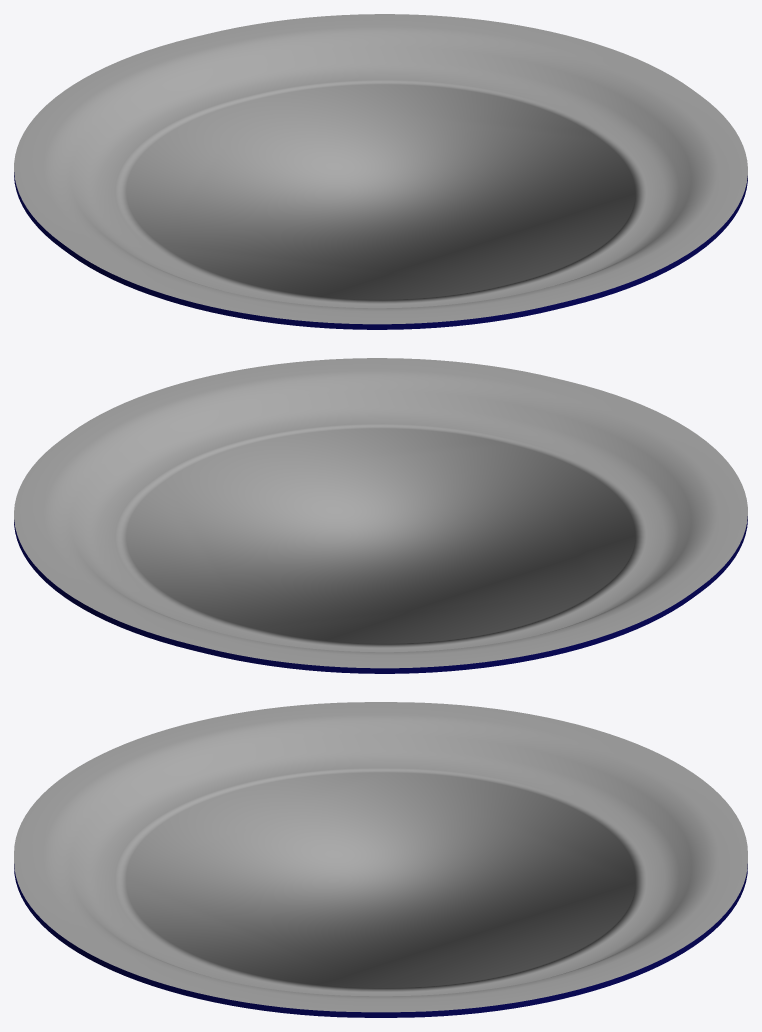
File: Teller.dae
3 views of the same model, one above another, from view 1: azimuth 30°, elevation 25°; view 2: azimuth 150°, elevation 25°; view 3: azimuth 270°, elevation 25° (orthographic).
Visible parts, largest first — view 1: Plane, Plane.001; view 2: Plane, Plane.001; view 3: Plane, Plane.001.
Boxes of the visible parts, x1,y1,x2,y2 form: Plane: (14, 14, 747, 324); Plane.001: (14, 172, 747, 329); Plane: (14, 358, 747, 668); Plane.001: (14, 516, 747, 673); Plane: (14, 702, 747, 1012); Plane.001: (14, 864, 747, 1017).
Bounding box in the file's own units: 0.2524 × 0.2524 × 0.0161.
